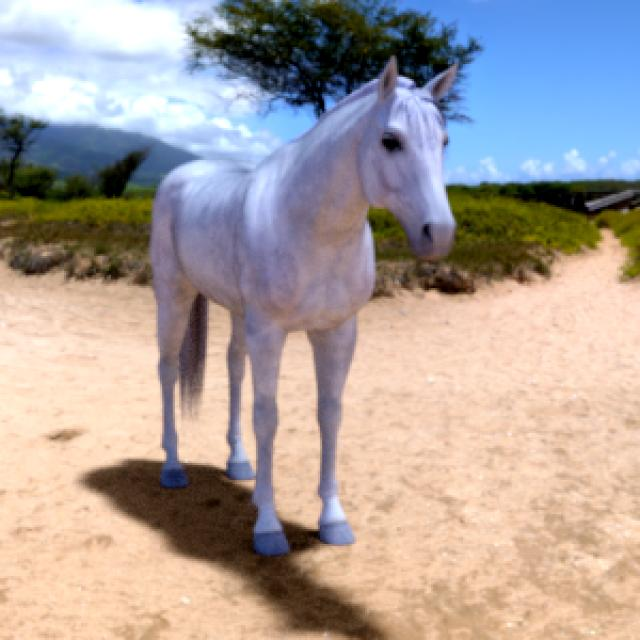horse: (150, 58, 456, 554)
